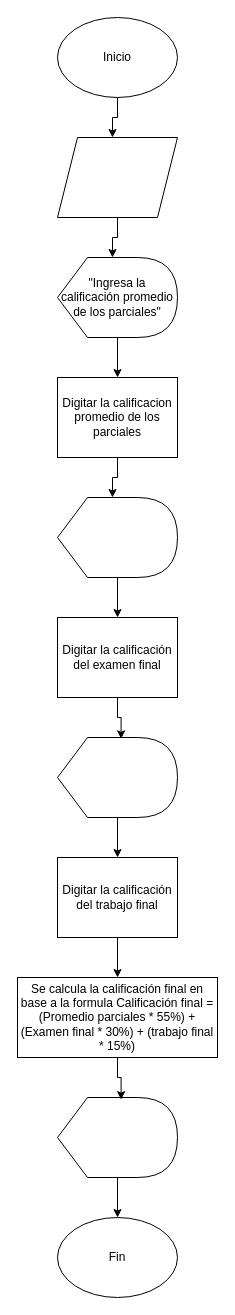
Some shapes in this 235 by 1315 pixel diagram are drawn without their labels. The shapes that lost their labels are listed below. From the top down, each one's box as (x1, y1, x2, y2) in pixels, then its label:
(56, 136, 178, 218): Promedio parciales, Examen final, Trabajo final
(56, 496, 178, 578): "Ingresa la calificación del examen final"
(56, 736, 178, 818): "Ingresa la calificación del trabajo final"
(56, 1096, 178, 1178): "La calificación final es: n"
